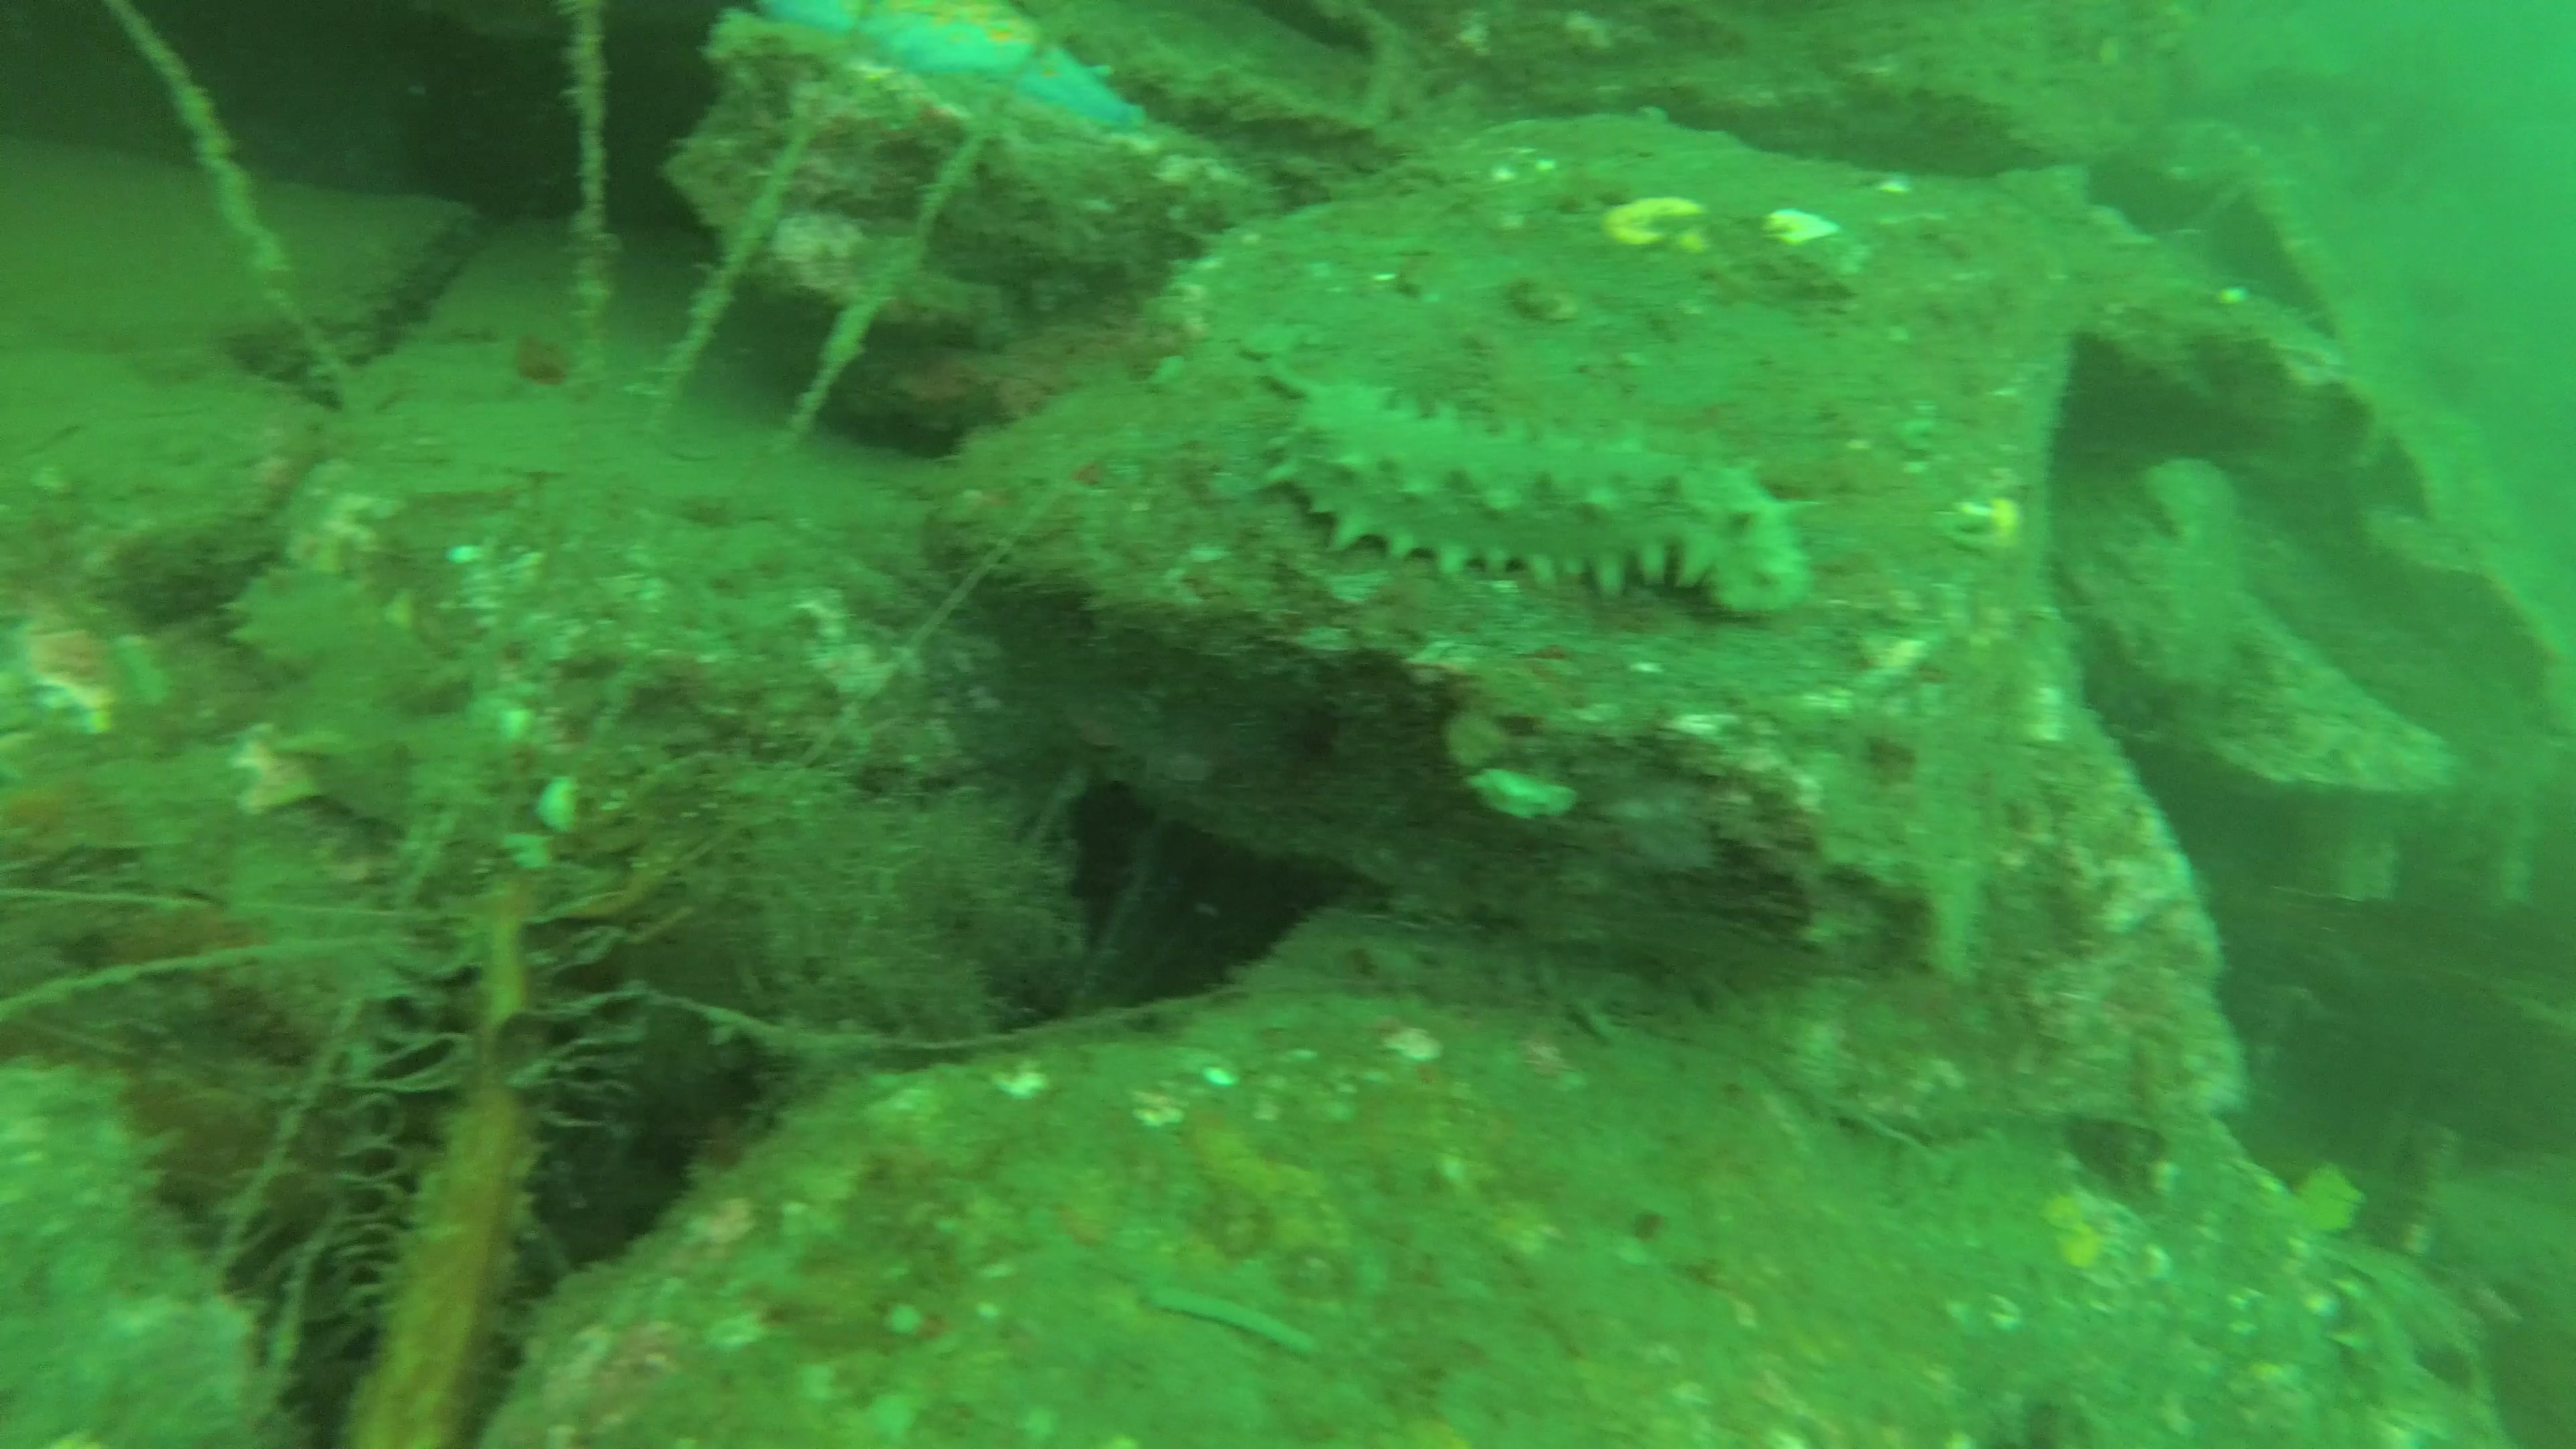holothurian: (1261, 382, 1806, 619), (223, 570, 460, 830)
starfish: (768, 0, 1146, 134)
